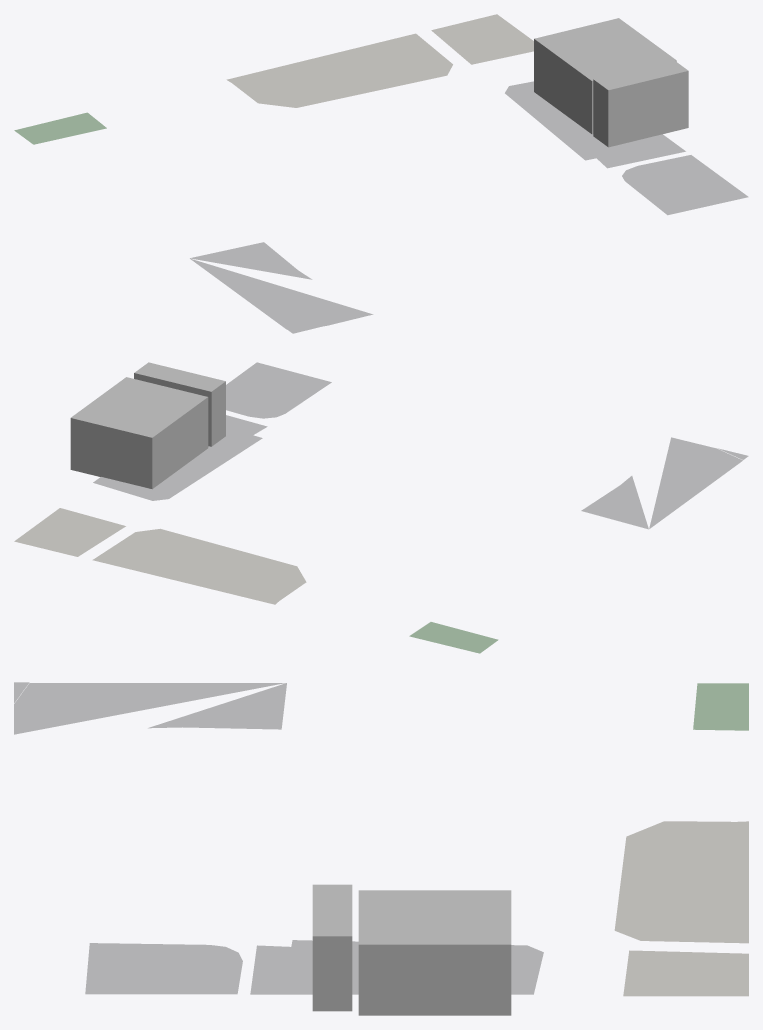
Rendered from 141_110_mid.glb.
3 renders of one model, top to bottom at view 1: azimuth 30°, elevation 25°; view 2: azimuth 150°, elevation 25°; view 3: azimuth 270°, elevation 25°, orthographic. The views are drawn at different scales.
Size of the model in its own units: 533 by 57.59 by 500.
